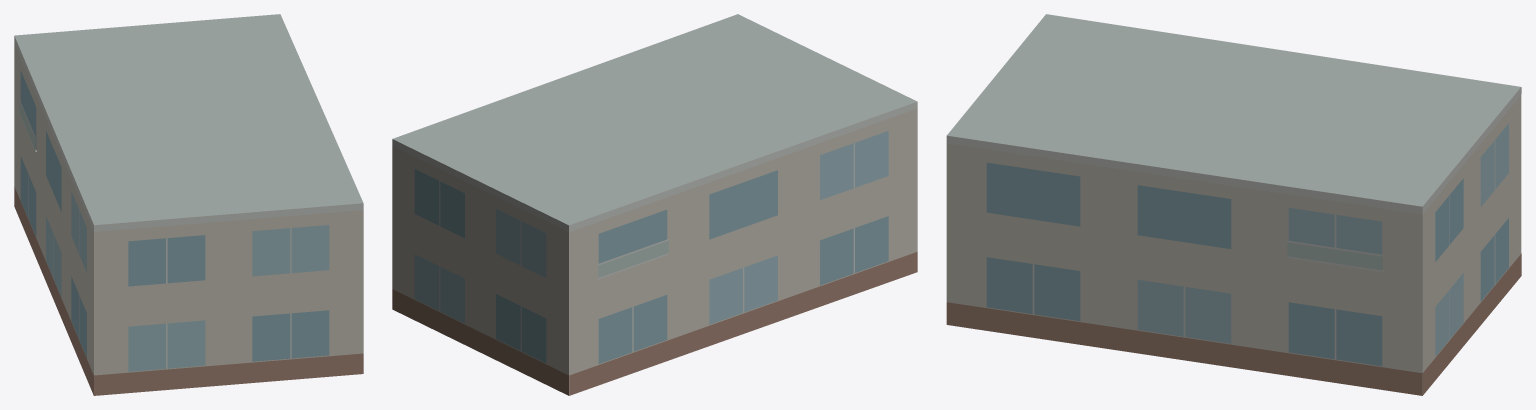
The model's file is survey-upis-32891013.glb.
3 views of the same model, side by side, from view 1: azimuth 30°, elevation 25°; view 2: azimuth 150°, elevation 25°; view 3: azimuth 270°, elevation 25° (orthographic). The views are drawn at different scales.
Visible parts, largest first — view 1: survey-upis-32891013.tmp; view 2: survey-upis-32891013.tmp; view 3: survey-upis-32891013.tmp.
Part boxes in pixels (x1,y1,x2,y2): survey-upis-32891013.tmp: [14, 14, 363, 395]; survey-upis-32891013.tmp: [392, 14, 917, 395]; survey-upis-32891013.tmp: [946, 14, 1521, 395].
Size of the model in its own units: 13.33 by 6.1 by 16.8.
